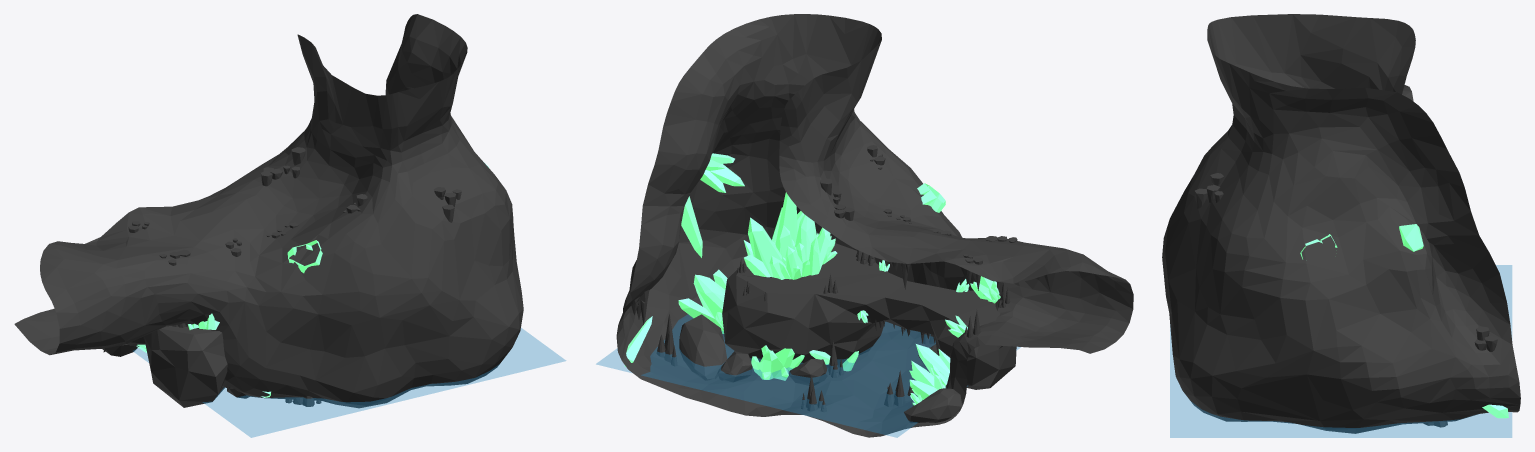
File: Cave_1.fbx
The picture shows the model from 3 angles, left to right: view 1: azimuth 30°, elevation 25°; view 2: azimuth 150°, elevation 25°; view 3: azimuth 270°, elevation 25°; orthographic projection. The views are drawn at different scales.
Parts seen in each view (by area): view 1: Cueva, Agua, Cube; view 2: Cueva, Cube, Agua, Piedra, Cristal.003, Cristal.008, Piedra.004, Cristal.001, Cristal.020, Cristal.015, Cristal.007, Cristal.002 (+5 smaller); view 3: Cueva, Agua, Cube.005.
Part boxes in pixels (<box>): Cueva: <box>14,14,523,408</box>; Agua: <box>133,328,565,437</box>; Cube: <box>144,326,227,407</box>; Cueva: <box>616,14,1133,437</box>; Cube: <box>722,243,1016,389</box>; Agua: <box>596,314,1020,437</box>; Piedra: <box>679,314,727,380</box>; Cristal.003: <box>743,217,793,279</box>; Cristal.008: <box>678,269,727,333</box>; Piedra.004: <box>904,388,962,423</box>; Cristal.001: <box>792,214,830,275</box>; Cristal.020: <box>751,345,794,380</box>; Cristal.015: <box>700,153,744,192</box>; Cristal.007: <box>909,360,947,399</box>; Cristal.002: <box>779,243,809,279</box>; Cueva: <box>1162,14,1520,433</box>; Agua: <box>1170,265,1511,437</box>; Cube.005: <box>1399,224,1423,251</box>.
Size of the model in its own units: 7689 by 4988 by 4498.
